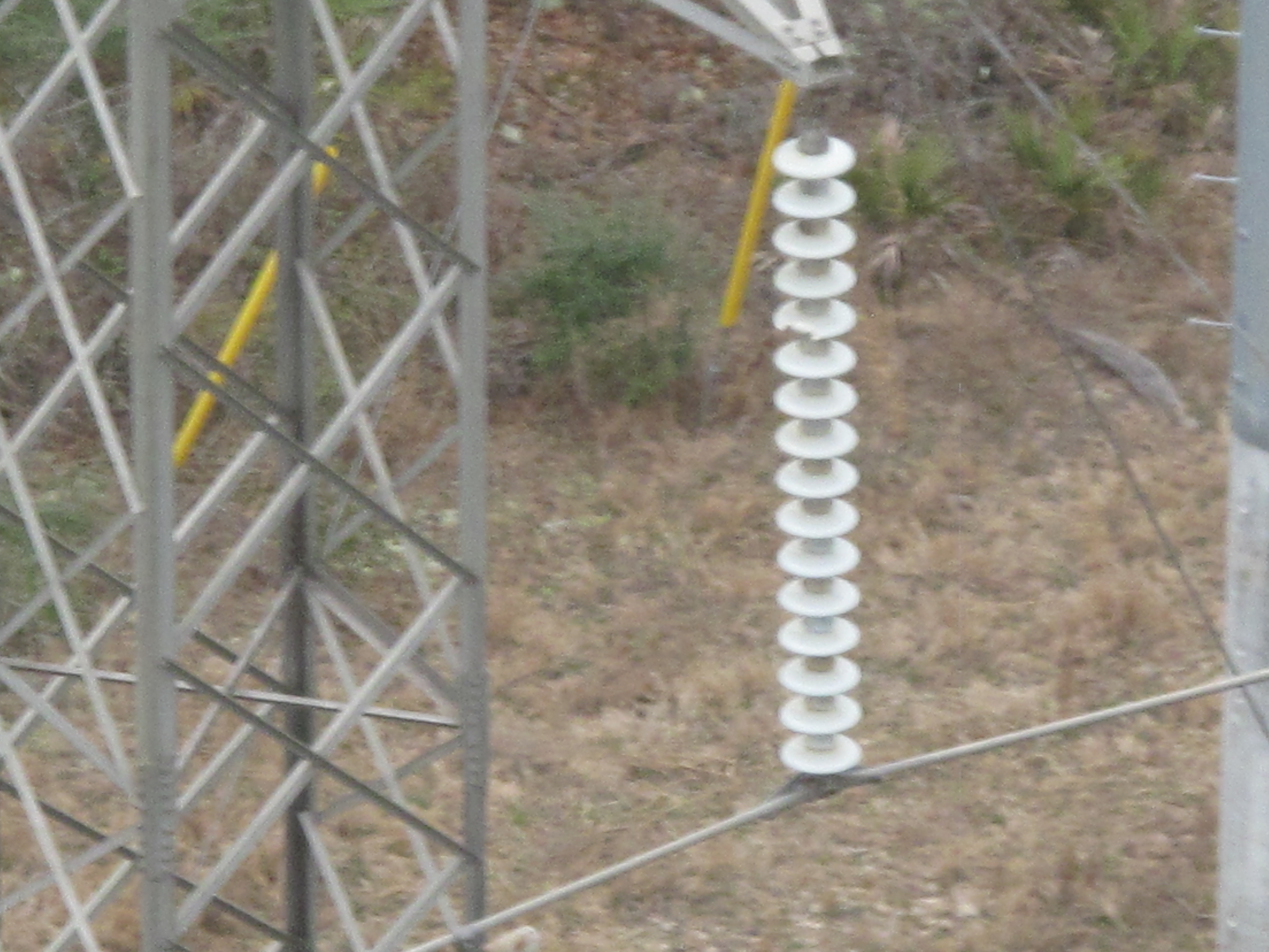damaged: (776, 314, 821, 341)
hammer: (443, 905, 544, 952)
insulator: (770, 130, 860, 776)
